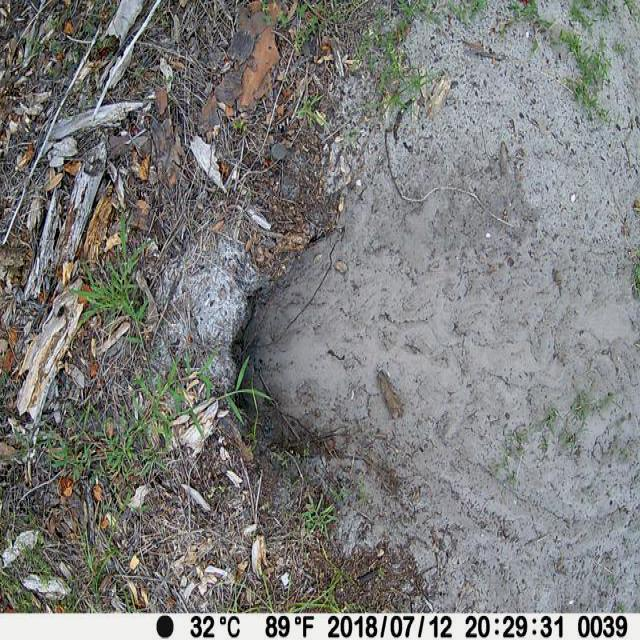tortoise: (268, 140, 291, 158)
